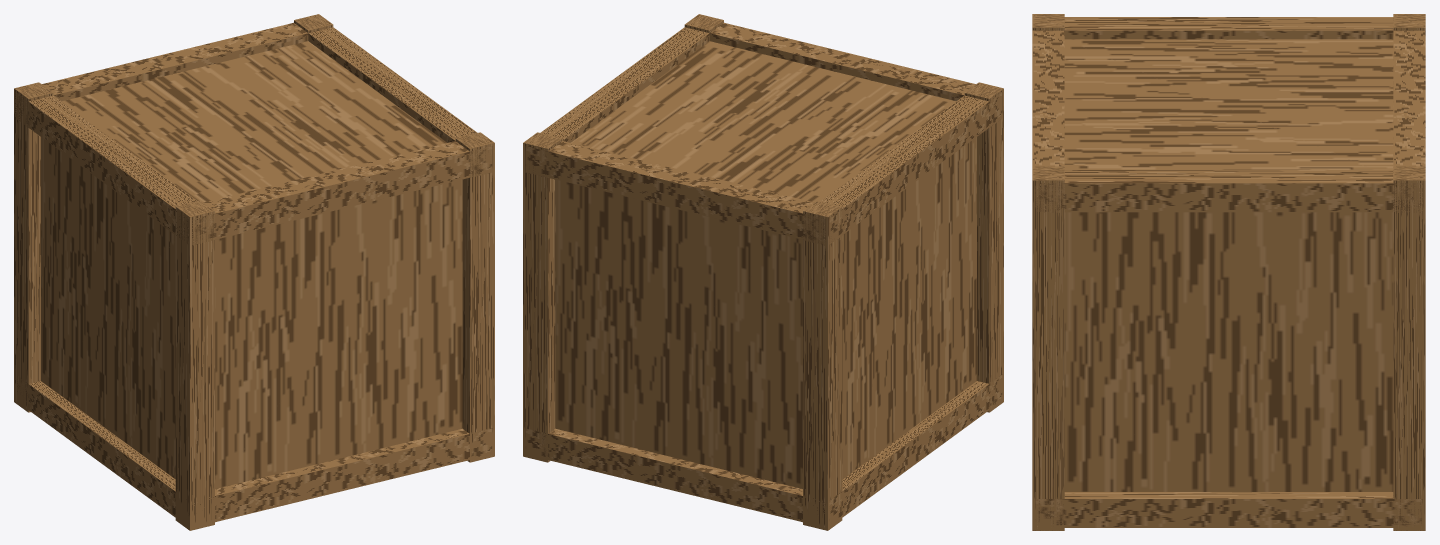
Rendered from urb_wooden_crate.glb.
The picture shows the model from 3 angles, left to right: view 1: azimuth 30°, elevation 25°; view 2: azimuth 150°, elevation 25°; view 3: azimuth 270°, elevation 25°; orthographic projection. The views are drawn at different scales.
Visible parts, largest first — view 1: crate; view 2: crate; view 3: crate.
Part boxes in pixels (x1=…): crate: x1=14, y1=14, x2=494, y2=530; crate: x1=523, y1=14, x2=1003, y2=530; crate: x1=1032, y1=14, x2=1425, y2=530.
Bounding box in the file's own units: 1.22 × 1.2 × 1.22.
Materials: 1 (1 with a texture image).
